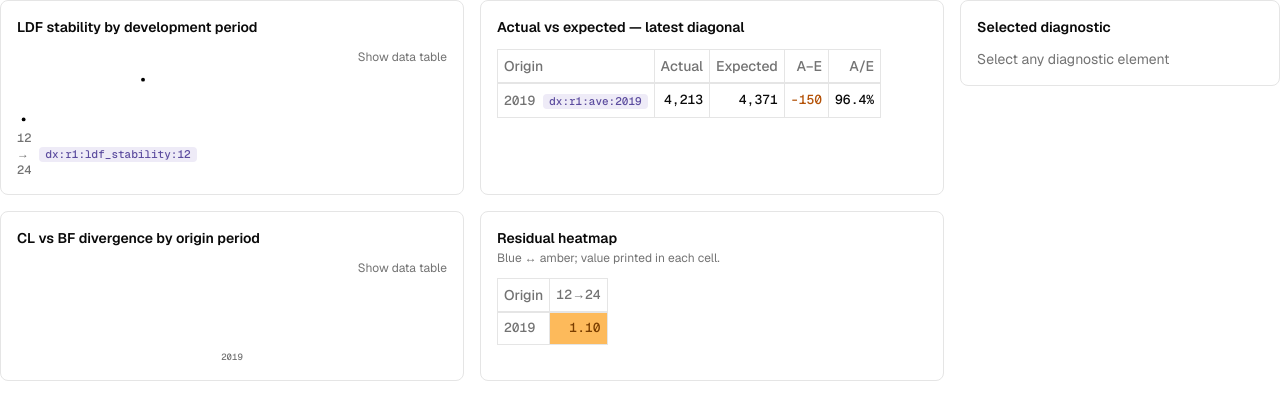
Test: DiagnosticsPanels (Story 4.5) › graphical panels expose an accessible data-table toggle (AC4)
Toggling the first reveals a table with the same LDF data (selected factor).
What coordinates should you click on to do the following:
click the button "Show data table" below "LDF stability by development period"
I would click on:
 (402, 57)
Its box is [358,49,447,65].
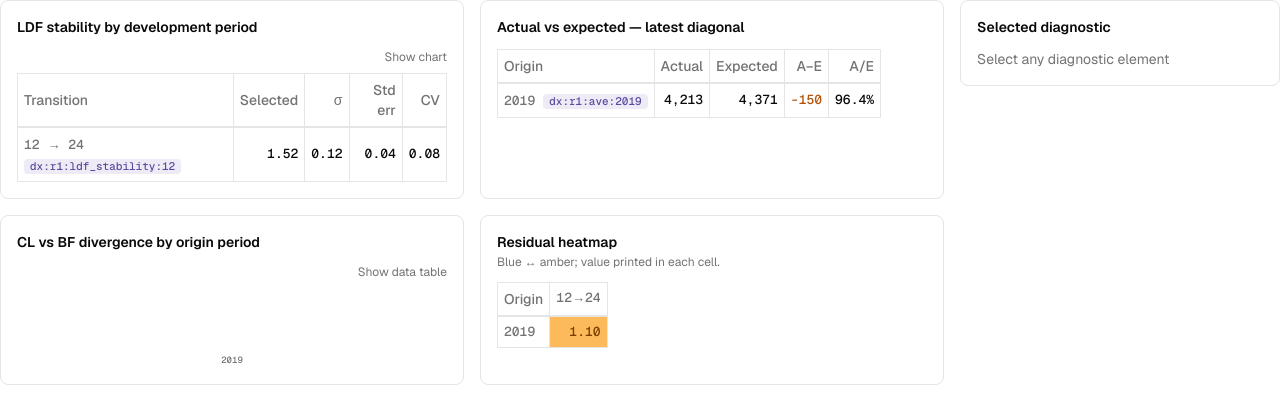
Expected: the text "1.52" is shown, [233,128,305,181]
